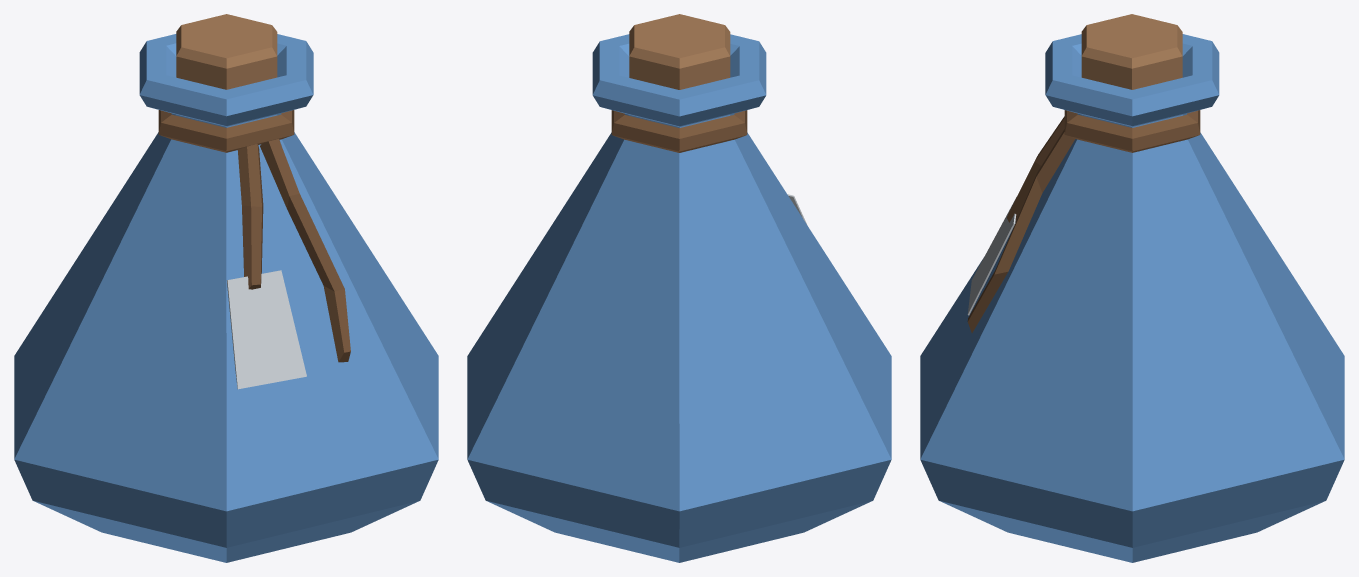
File: Blue_Potion_6(String+Label).fbx
The picture shows the model from 3 angles, left to right: view 1: azimuth 30°, elevation 25°; view 2: azimuth 150°, elevation 25°; view 3: azimuth 270°, elevation 25°; orthographic projection.
Visible parts, largest first — view 1: Blue_Potion_6(String+Label); view 2: Blue_Potion_6(String+Label); view 3: Blue_Potion_6(String+Label).
Part boxes in pixels (bbox=[...]): Blue_Potion_6(String+Label): bbox=[14, 14, 438, 562]; Blue_Potion_6(String+Label): bbox=[467, 14, 891, 562]; Blue_Potion_6(String+Label): bbox=[920, 14, 1344, 562].
Bounding box in the file's own units: 20.22 × 21.21 × 17.51.
